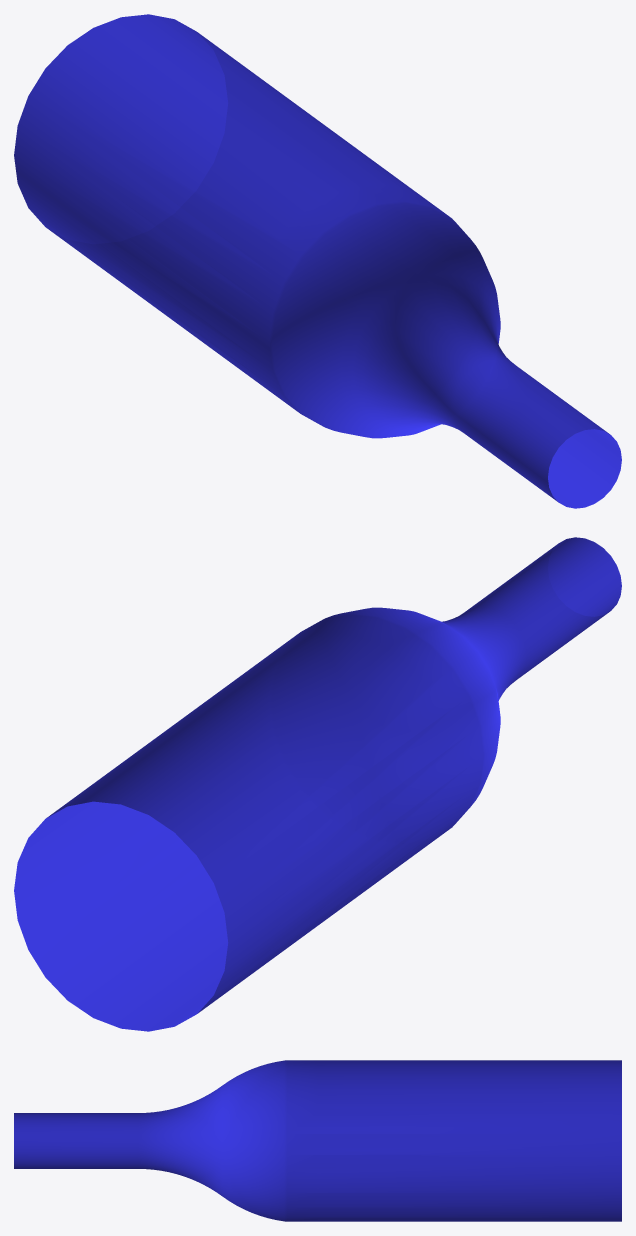
File: model_scale.obj
The picture shows the model from 3 angles, top to bottom: view 1: azimuth 30°, elevation 25°; view 2: azimuth 150°, elevation 25°; view 3: azimuth 270°, elevation 25°; orthographic projection. The views are drawn at different scales.
Parts seen in each view (by area): view 1: mesh1_mesh1-geometry; view 2: mesh1_mesh1-geometry; view 3: mesh1_mesh1-geometry.
Boxes of the visible parts, x1,y1,x2,y2 form: mesh1_mesh1-geometry: (14,14,621,508); mesh1_mesh1-geometry: (14,537,621,1031); mesh1_mesh1-geometry: (14,1060,621,1221).
Size of the model in its own units: 0.0423 by 0.0423 by 0.1584.
